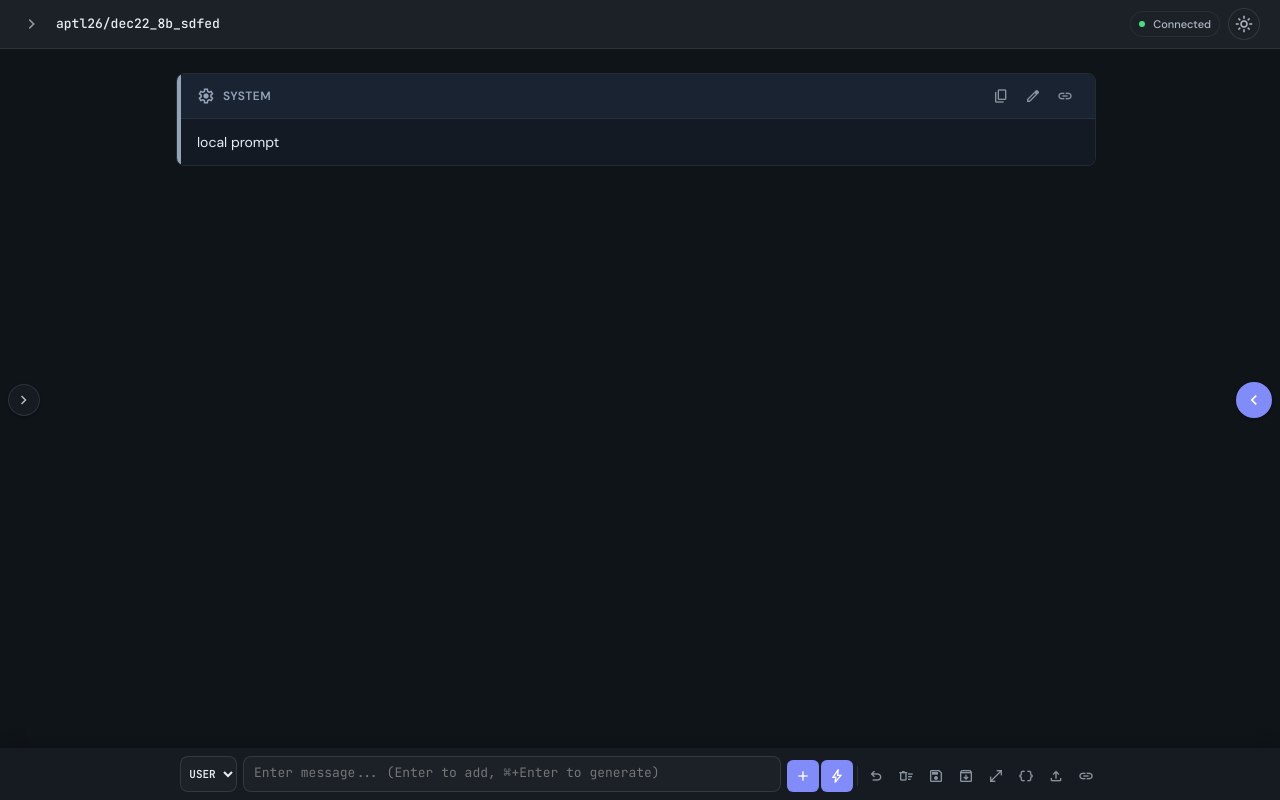
Test: AppShell chat flows › streams a local assistant response and saves it
The width and height of the screenshot is (1280, 800).
Step 1. Type "Hello local model" into the text box with placeholder "Enter message... (Enter to add, ⌘+Enter to generate)" → (512, 774), box [243,756,781,792]
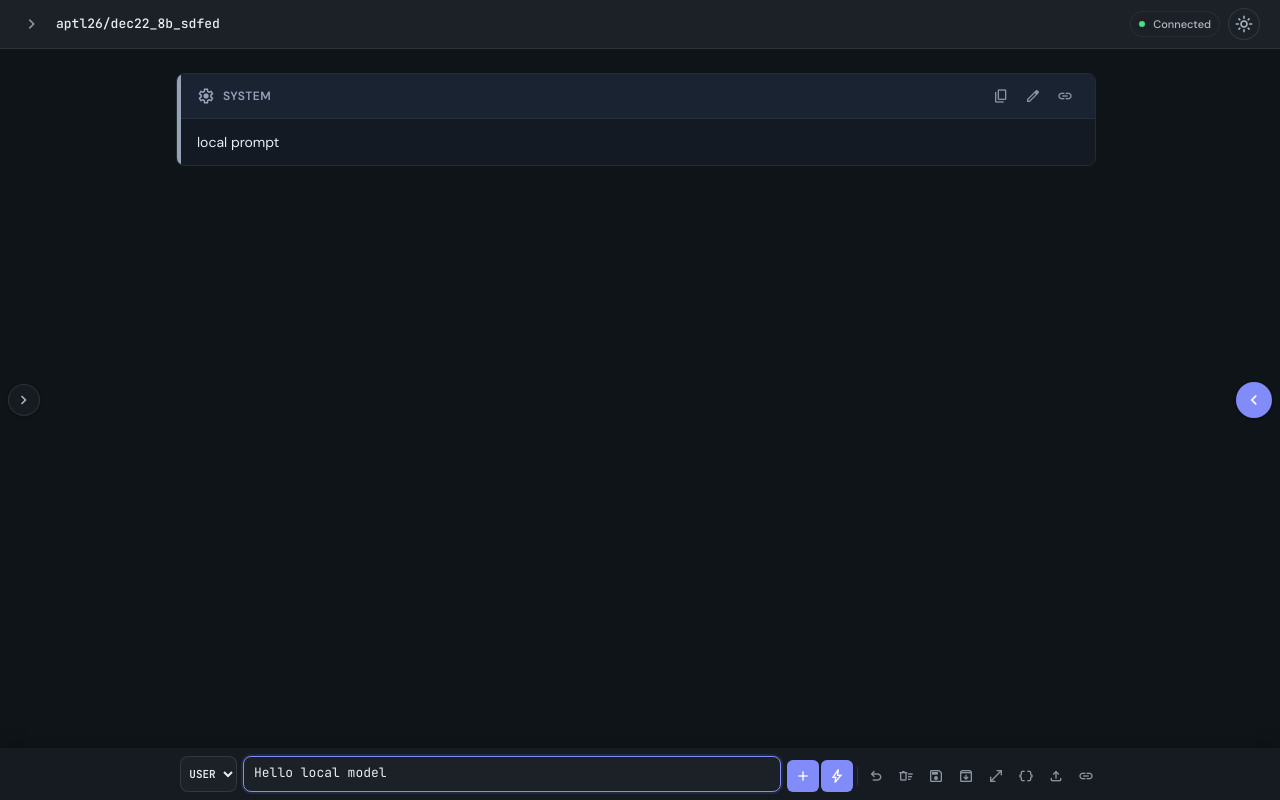
Step 2. Click the button named "Add" → (803, 776), box [787,760,819,792]
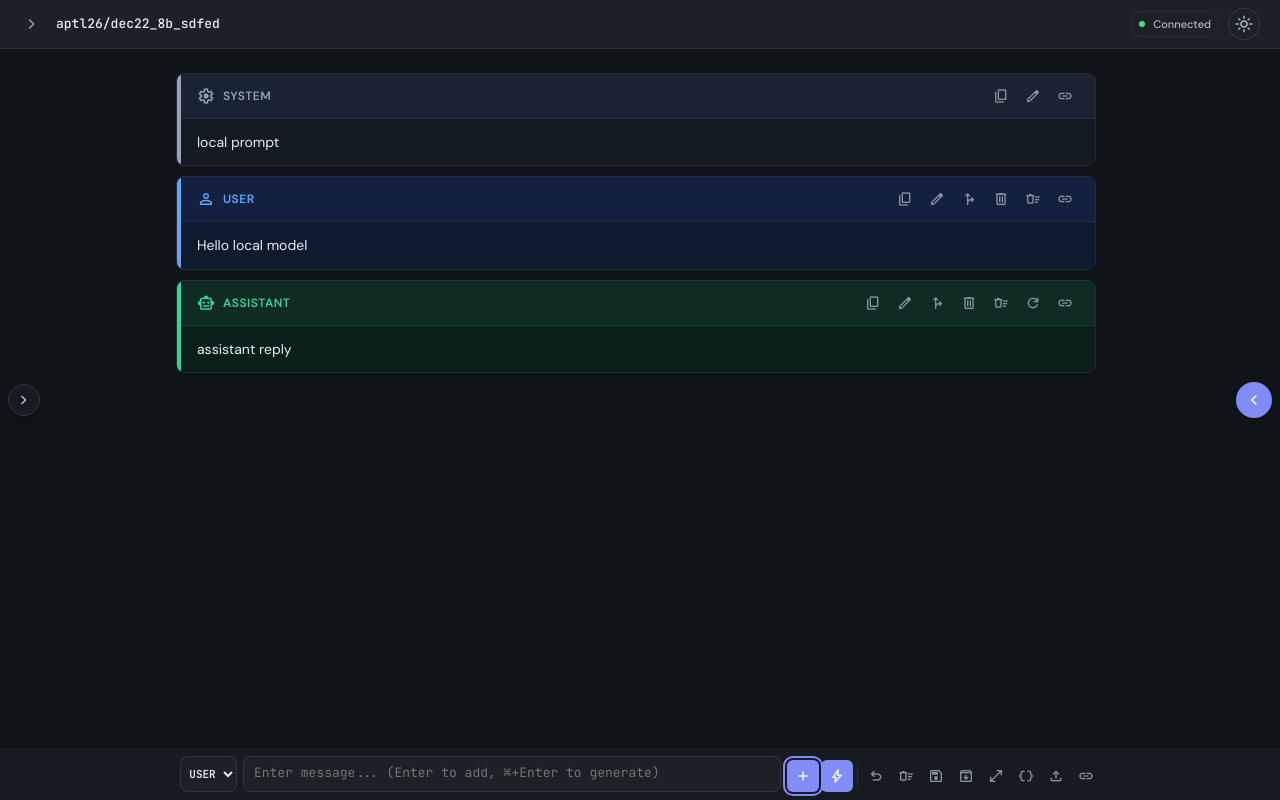
expect the text "assistant reply" is shown: met, box [197,340,292,358]
